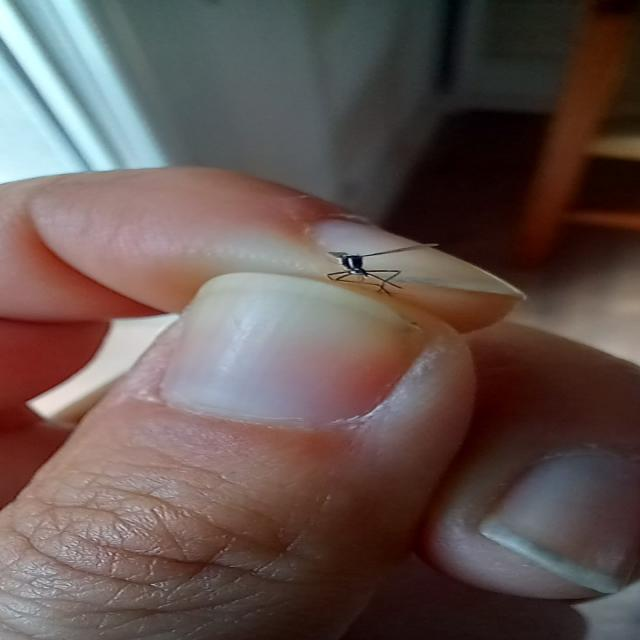albopictus: (319, 242, 428, 293)
